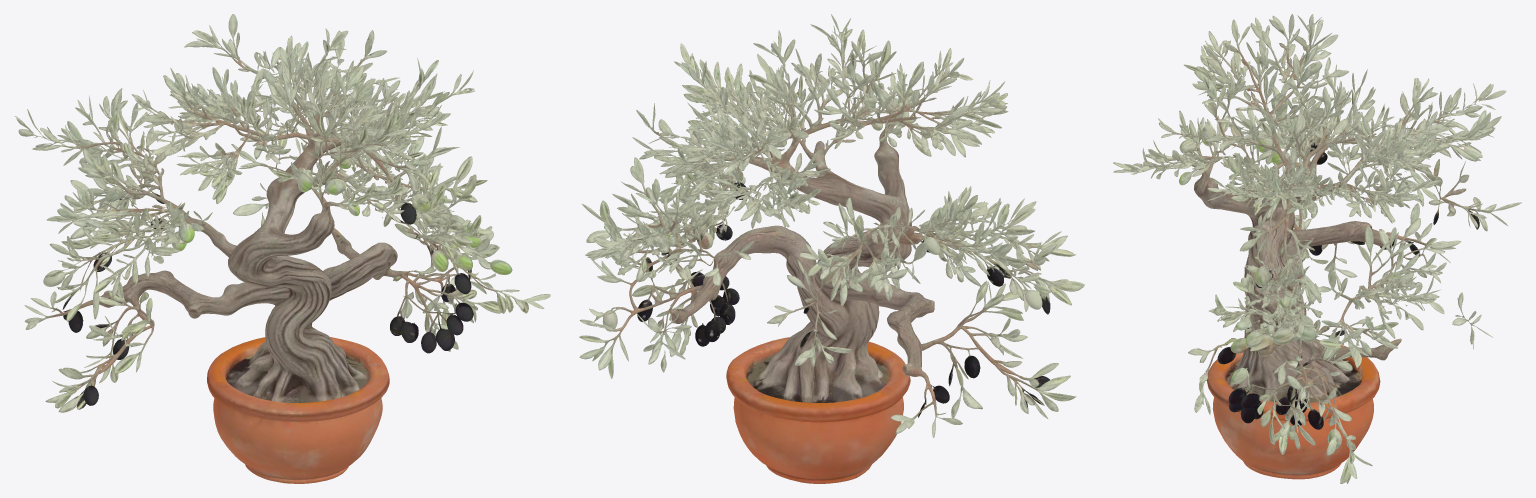
The model's file is burhan-v1.glb.
3 renders of one model, left to right at view 1: azimuth 30°, elevation 25°; view 2: azimuth 150°, elevation 25°; view 3: azimuth 270°, elevation 25°, orthographic. The views are drawn at different scales.
Size of the model in its own units: 1.9 by 1.63 by 1.52.
1 material, 1 textured.
